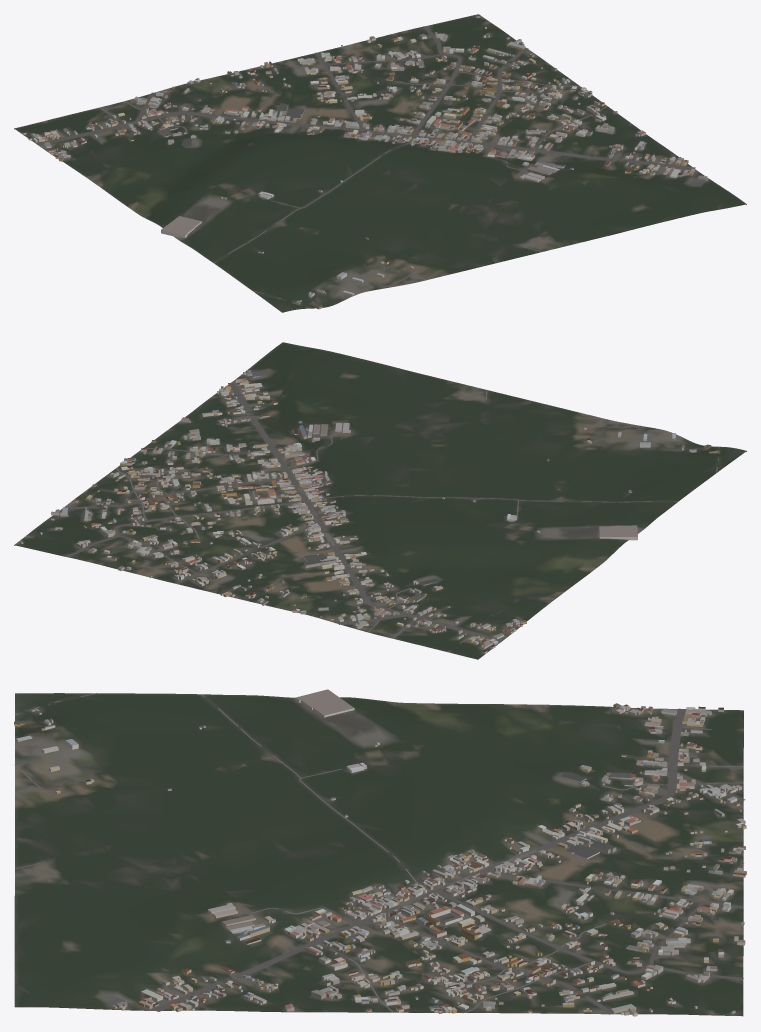
3 renders of one model, top to bottom at view 1: azimuth 30°, elevation 25°; view 2: azimuth 150°, elevation 25°; view 3: azimuth 270°, elevation 25°, orthographic. The views are drawn at different scales.
Parts seen in each view (by area): view 1: ground, buildings, roads; view 2: ground, buildings, roads; view 3: ground, buildings, roads.
Boxes of the visible parts, bbox=[...] form: ground: bbox=[14, 14, 746, 312]; buildings: bbox=[22, 16, 708, 309]; roads: bbox=[36, 26, 695, 308]; ground: bbox=[14, 342, 746, 659]; buildings: bbox=[20, 370, 718, 653]; roads: bbox=[65, 382, 719, 644]; ground: bbox=[14, 693, 743, 1016]; buildings: bbox=[14, 689, 746, 1016]; roads: bbox=[14, 693, 745, 1014].
Bounding box in the file's own units: 1426 × 47.98 × 1409.
